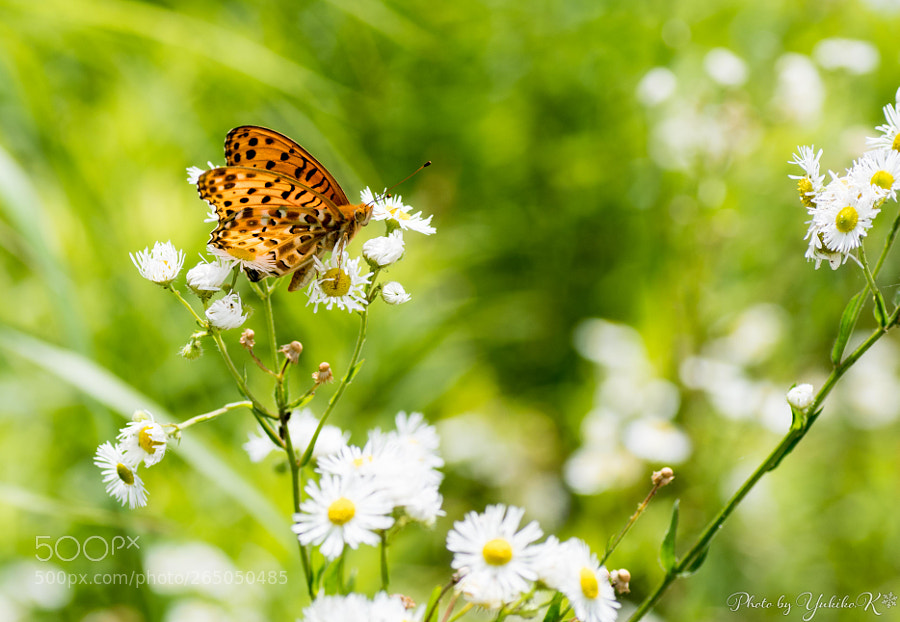Argyreus hyperbius: (188, 118, 439, 294)
butterfly: (190, 120, 441, 296)
